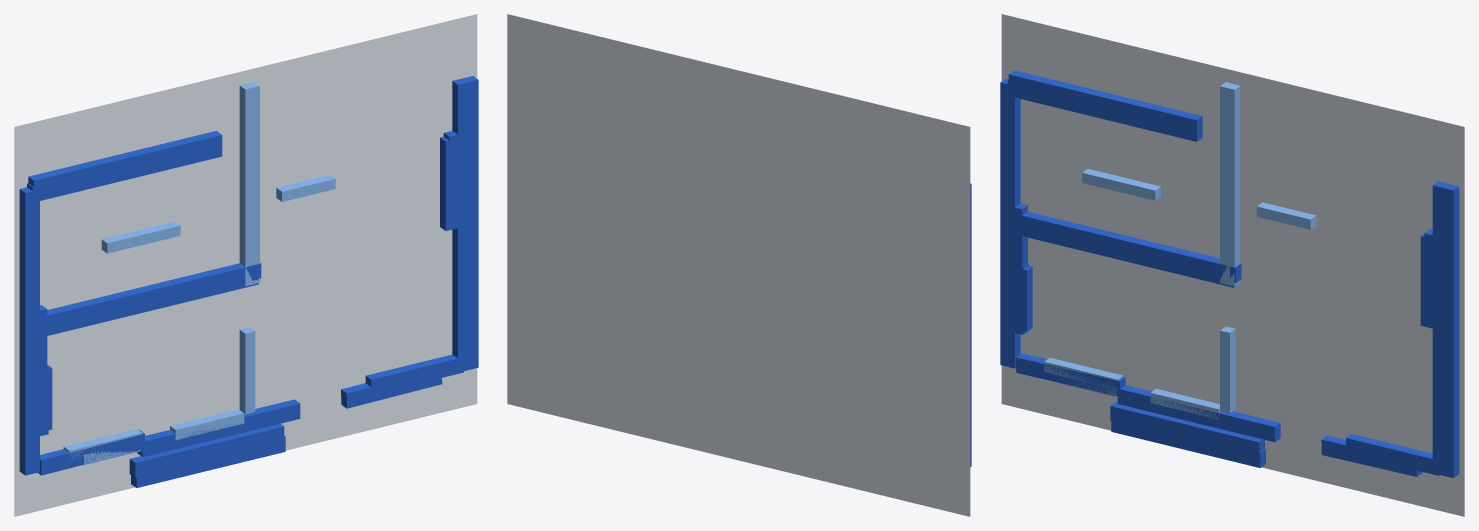
The model's file is 2ea24fdc-8a86-492d-9c73-6ddef2cc06a7.obj.
The picture shows the model from 3 angles, left to right: view 1: azimuth 30°, elevation 25°; view 2: azimuth 150°, elevation 25°; view 3: azimuth 330°, elevation 25°; orthographic projection.
Size of the model in its own units: 18.95 by 15.25 by 0.45.
